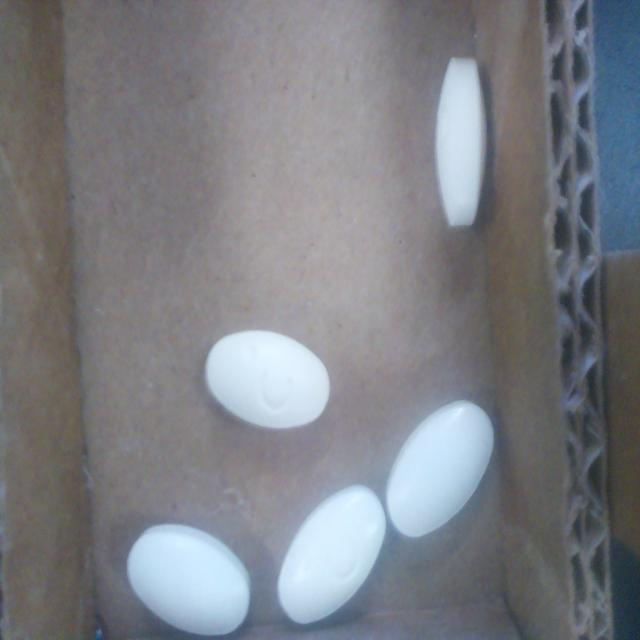pill: (278, 485, 386, 624), (386, 401, 494, 538), (127, 524, 250, 636), (205, 330, 330, 429), (435, 58, 487, 227)
